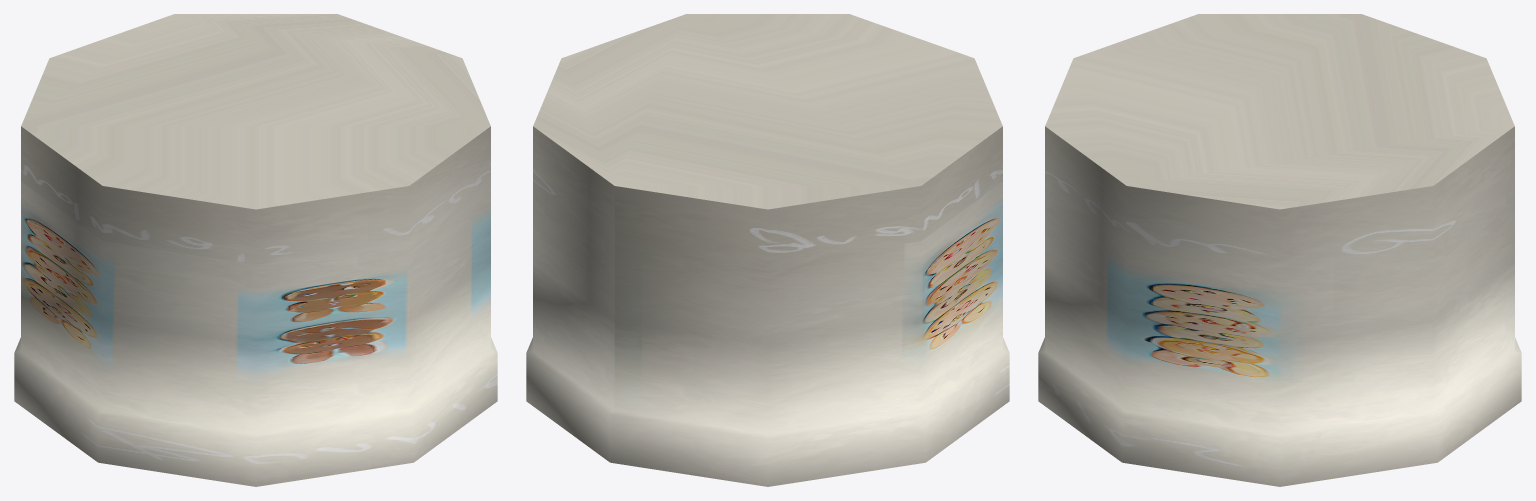
File: boite cookies.fbx
3 renders of one model, left to right at view 1: azimuth 30°, elevation 25°; view 2: azimuth 150°, elevation 25°; view 3: azimuth 270°, elevation 25°, orthographic.
Visible parts, largest first — view 1: Cylinder001; view 2: Cylinder001; view 3: Cylinder001.
Boxes of the visible parts, x1=… form: Cylinder001: x1=14, y1=14, x2=497, y2=486; Cylinder001: x1=526, y1=14, x2=1009, y2=486; Cylinder001: x1=1038, y1=14, x2=1521, y2=486.
Bounding box in the file's own units: 56.79 × 36.12 × 57.67.
1 material, 1 textured.
